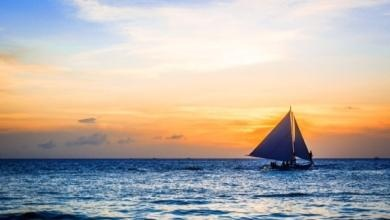fanchuan: (246, 105, 325, 172)
